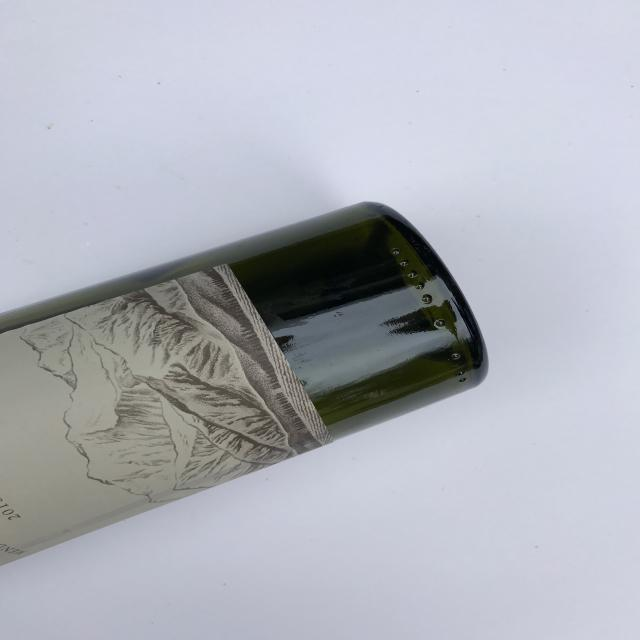glass: (0, 199, 489, 567)
